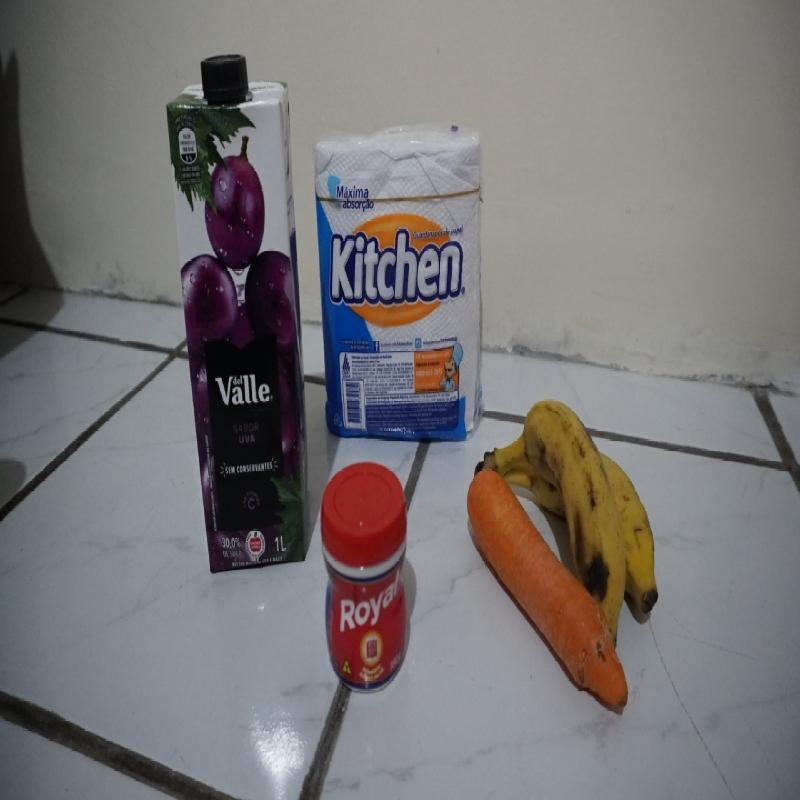Banana: (469, 399, 660, 635)
Carrot: (465, 466, 630, 708)
Napkin: (312, 123, 488, 442)
Yeast: (318, 460, 411, 694)
